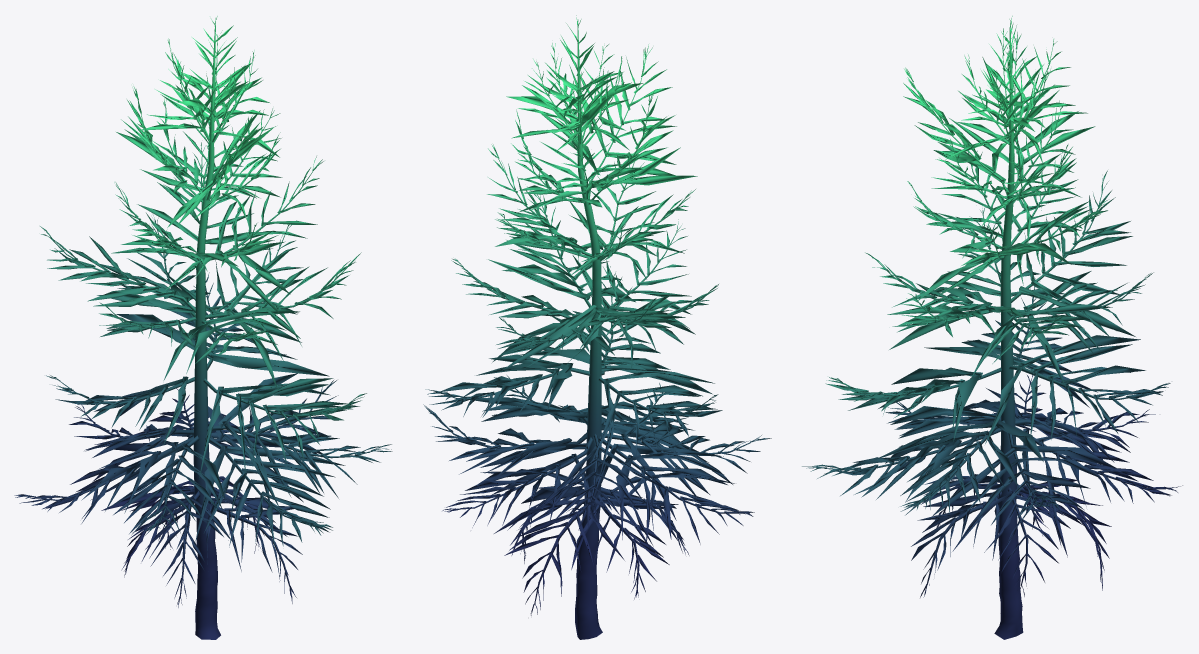
File: SM_Tree_2.fbx
3 renders of one model, left to right at view 1: azimuth 30°, elevation 25°; view 2: azimuth 150°, elevation 25°; view 3: azimuth 270°, elevation 25°, orthographic.
Visible parts, largest first — view 1: d; view 2: d; view 3: d.
Boxes of the visible parts, x1,y1,x2,y2 form: d: (14, 16, 392, 639); d: (423, 15, 771, 639); d: (802, 16, 1182, 639).
Bounding box in the file's own units: 284 × 512 × 286.
